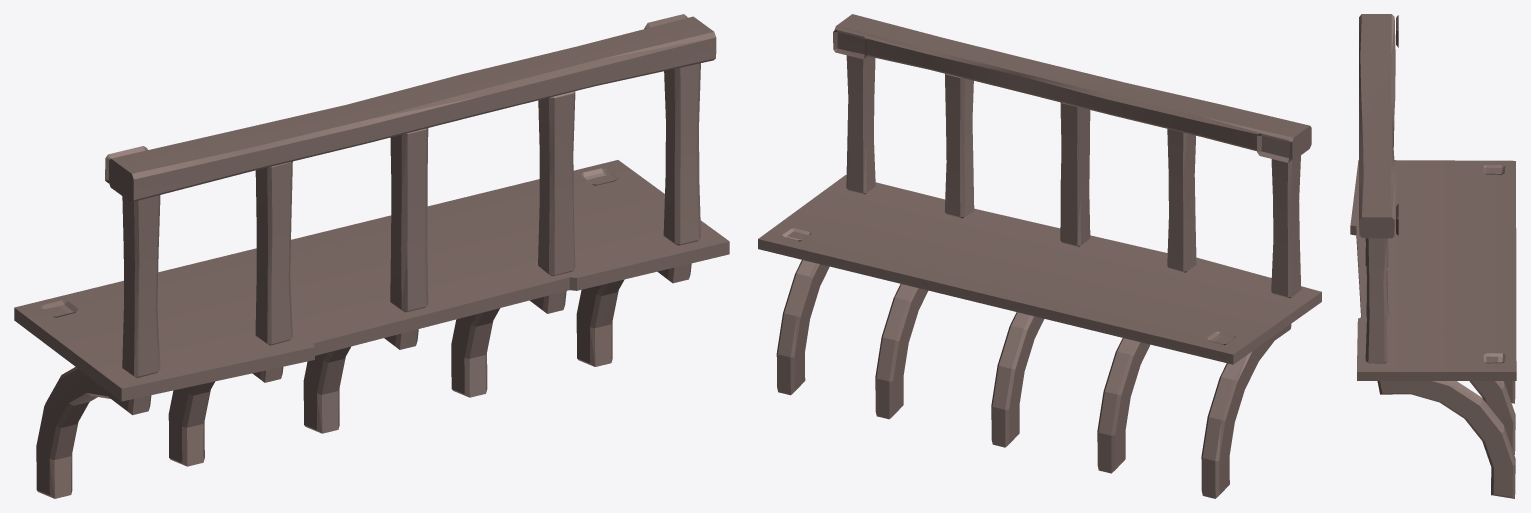
File: Balcony.fbx
3 renders of one model, left to right at view 1: azimuth 30°, elevation 25°; view 2: azimuth 150°, elevation 25°; view 3: azimuth 270°, elevation 25°, orthographic. The views are drawn at different scales.
Parts seen in each view (by area): view 1: balcony_B; view 2: balcony_B; view 3: balcony_B.
Boxes of the visible parts, x1,y1,x2,y2 form: balcony_B: (14, 14, 729, 498); balcony_B: (758, 14, 1321, 498); balcony_B: (1350, 14, 1516, 498).
Size of the model in its own units: 0.3364 by 0.2118 by 0.1114.
